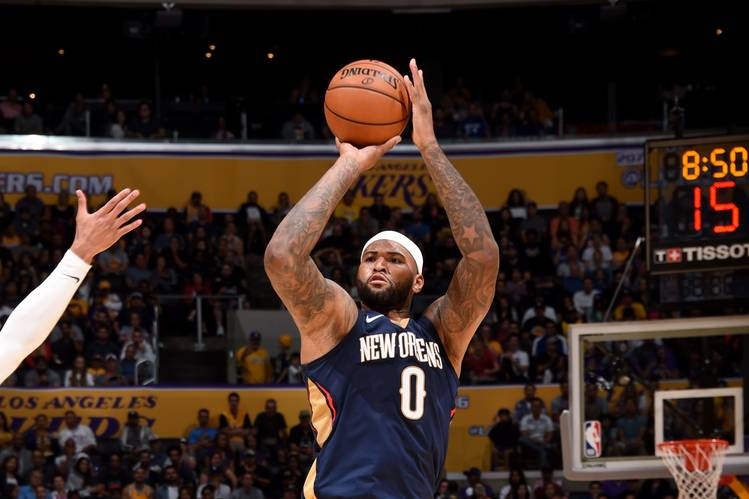Basketball: (320, 58, 411, 145)
